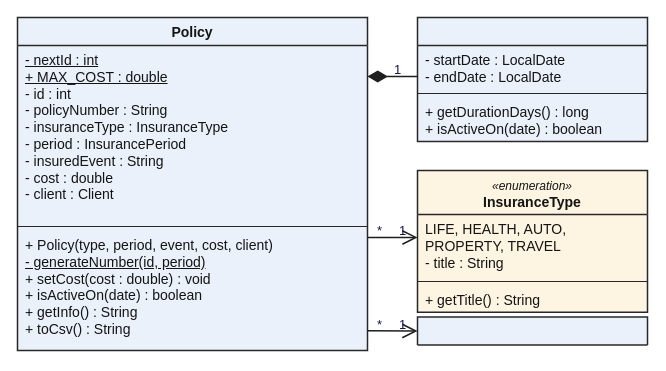
This 666x371 diagram has some shape labels left out. Here are the shapes that lost their labels. From the top down, the box of each, then its label:
(416, 16, 648, 142): InsurancePeriod
(416, 316, 648, 345): Client
